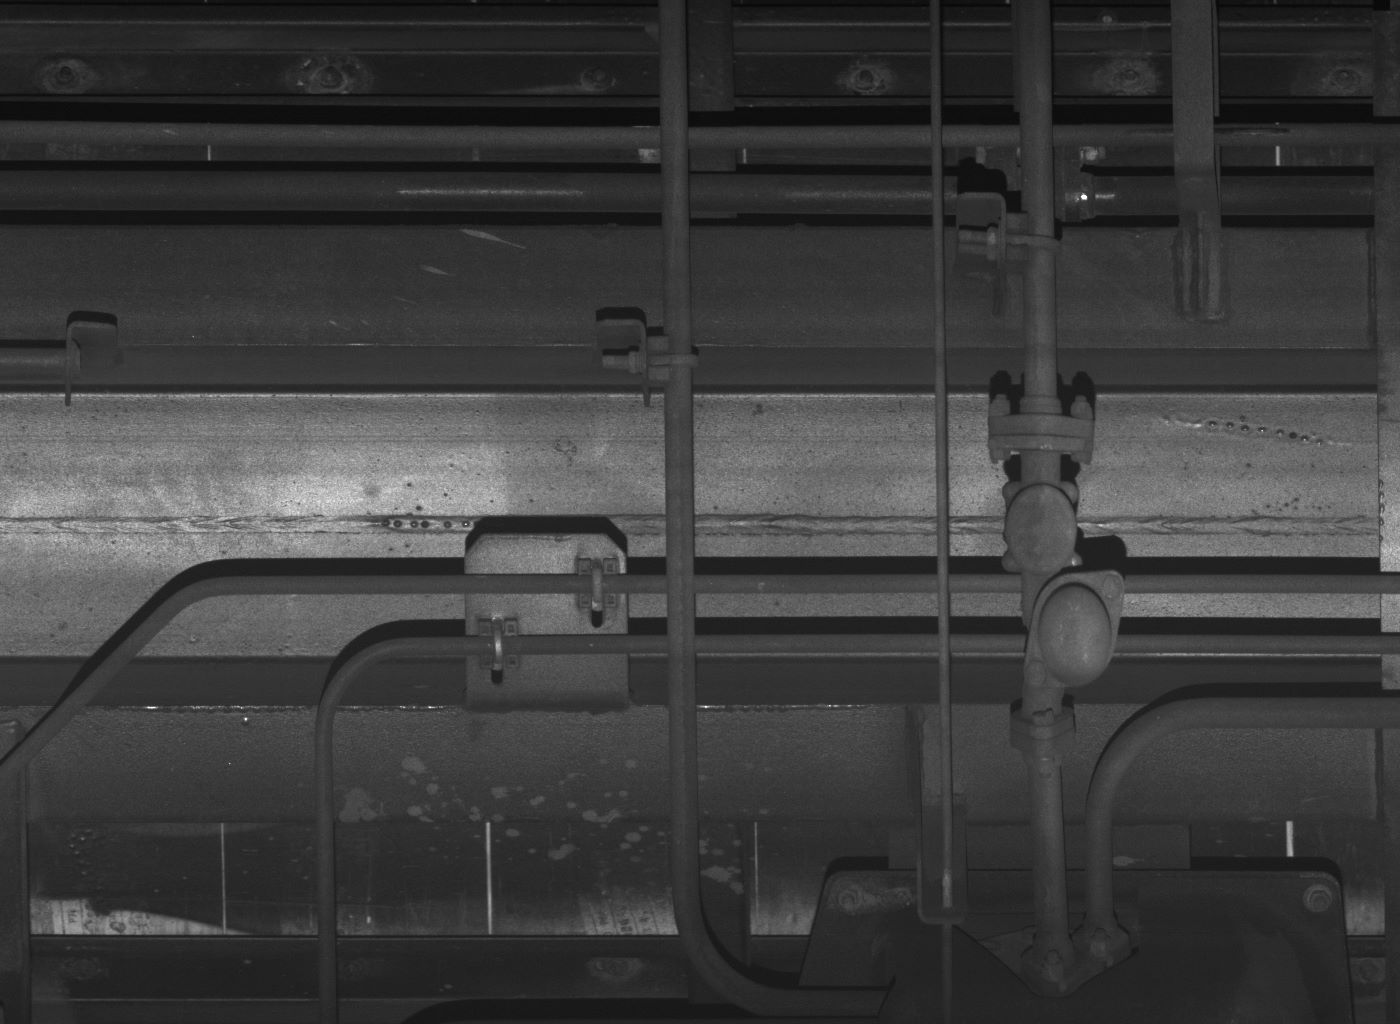normal: (1001, 478, 1084, 573)
